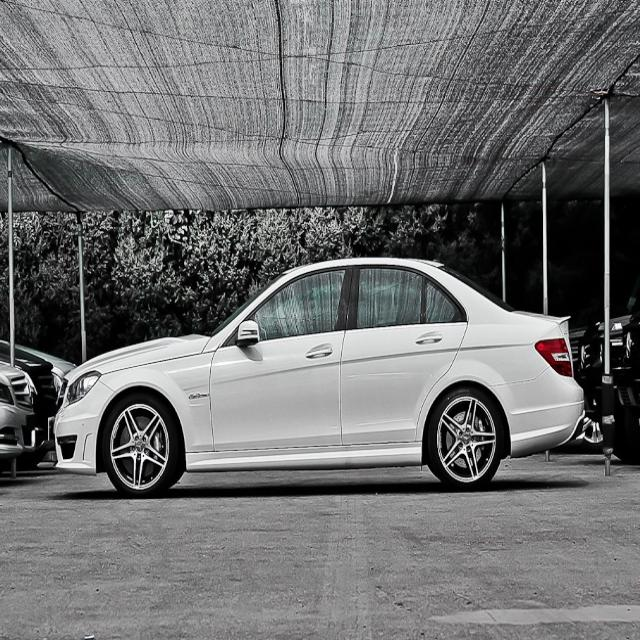back_left_side_light: (533, 336, 574, 382)
door: (344, 258, 470, 448)
front_left_side_door: (208, 265, 354, 455)
front_left_side_light: (64, 369, 102, 409)
front_left_side_mirror: (236, 320, 260, 346)
wheel: (427, 383, 503, 489), (102, 397, 177, 497)
